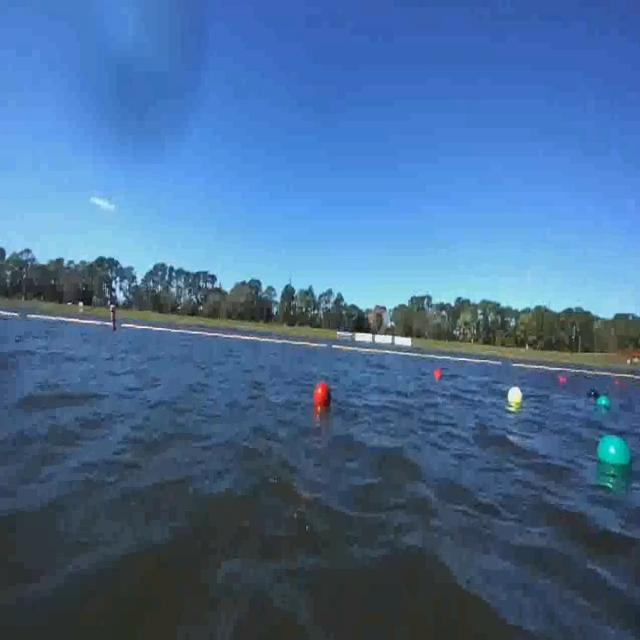green-buoy: (596, 438, 632, 470), (597, 395, 611, 411)
red-buoy: (317, 381, 333, 405), (434, 368, 442, 379), (559, 377, 568, 386)
yellow-buoy: (506, 384, 522, 404)
